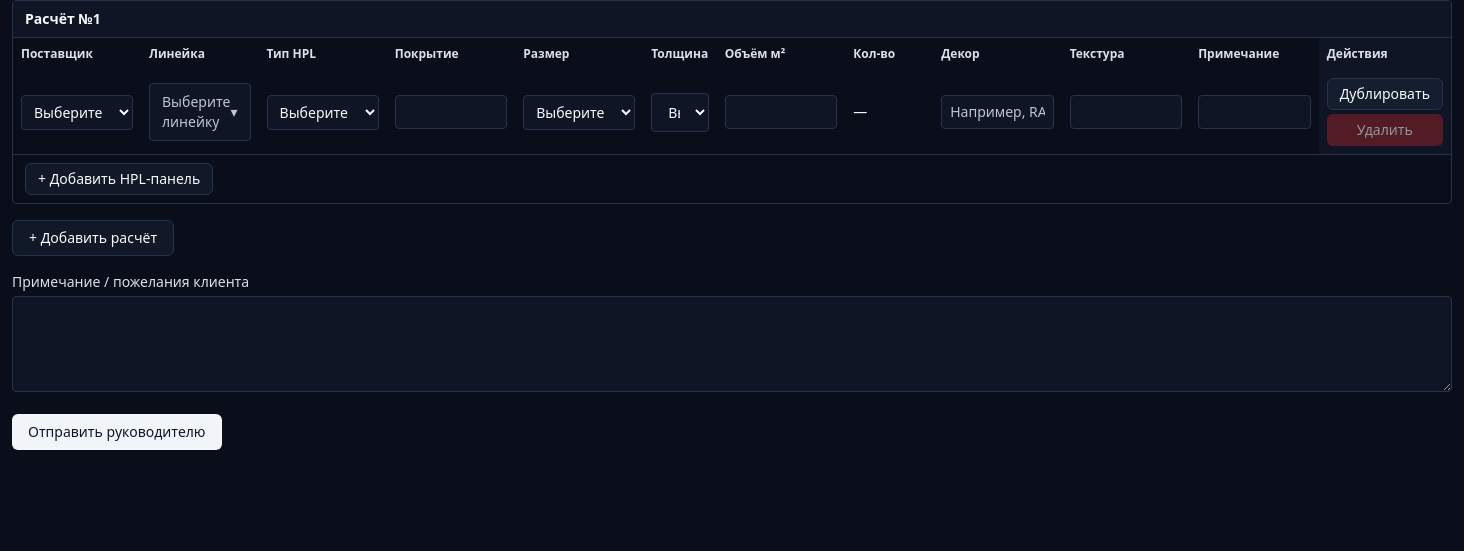
Test: CalculationRequestForm › deletes a row
This screenshot has width=1464, height=551.
Click the button "+ Добавить HPL-панель" at (119, 179), box [25,163,213,195]
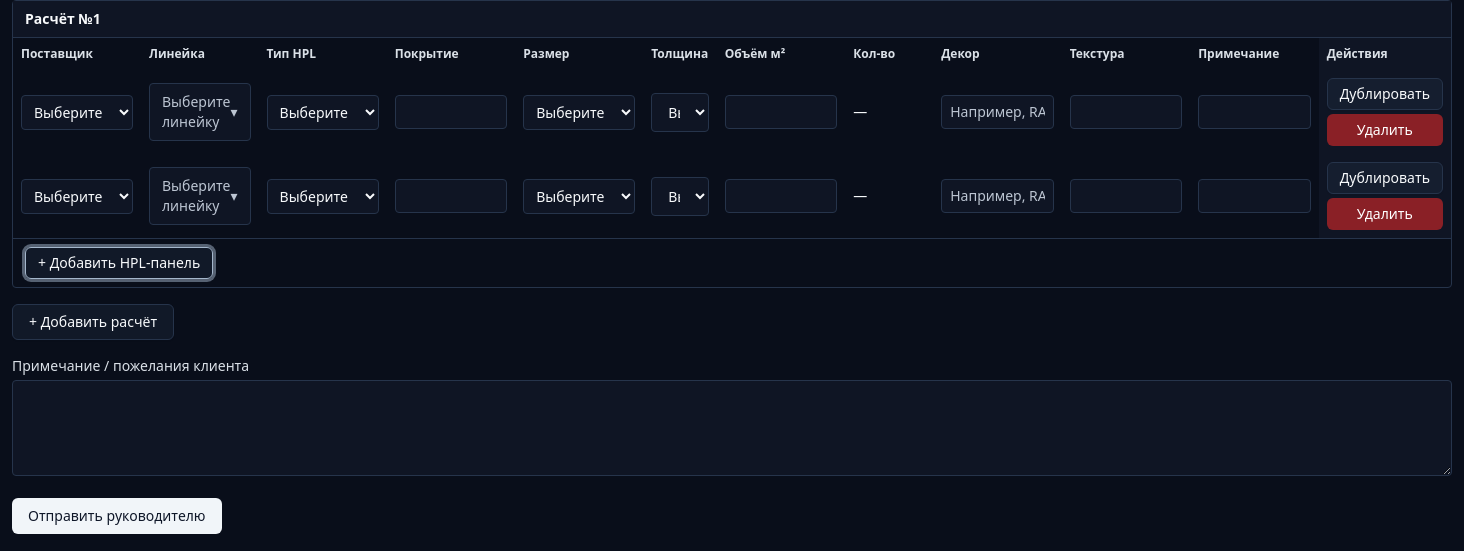
Click the button with aria-label "Удалить строку 2" at (1385, 214), box [1327,198,1443,230]
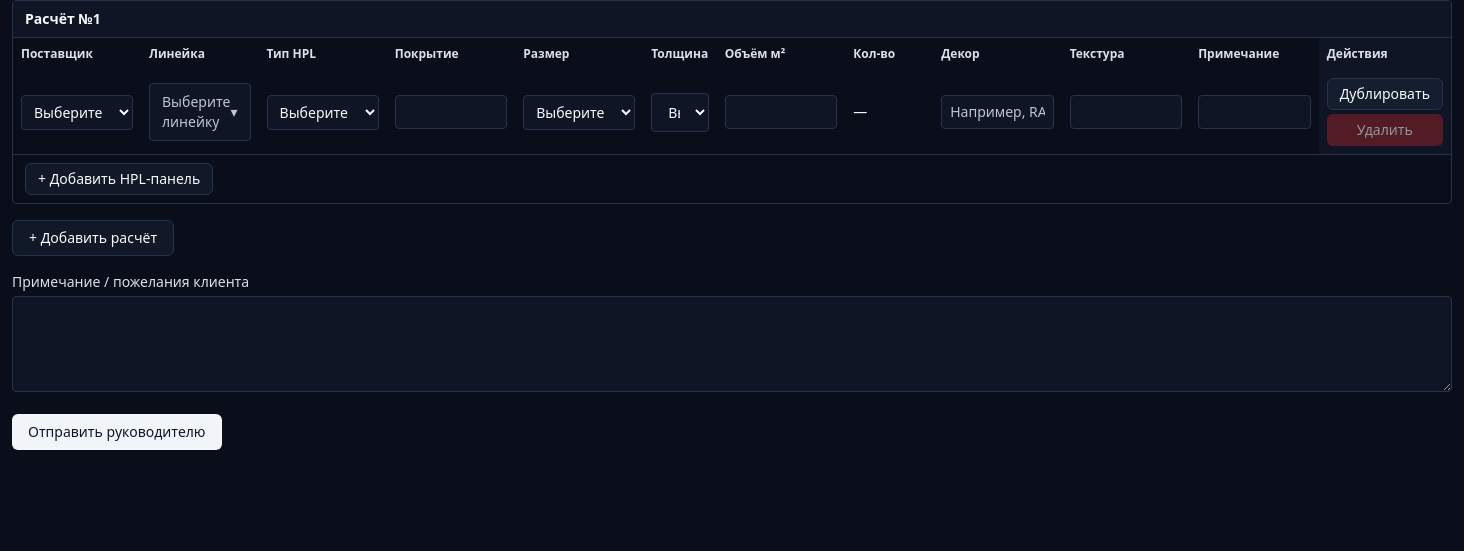
Now the number of dropdowns named "Тип HPL, строка" is 1, box [267,94,379,130]
